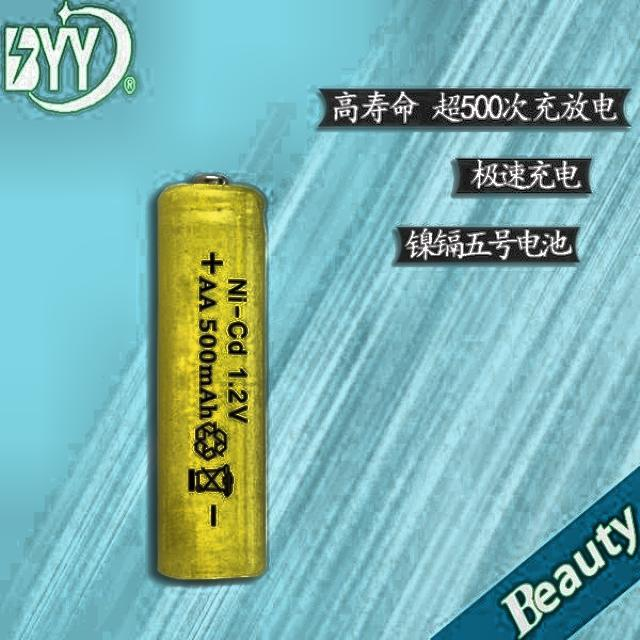Non-Valuable Waste - Batteries: (158, 176, 265, 579)
